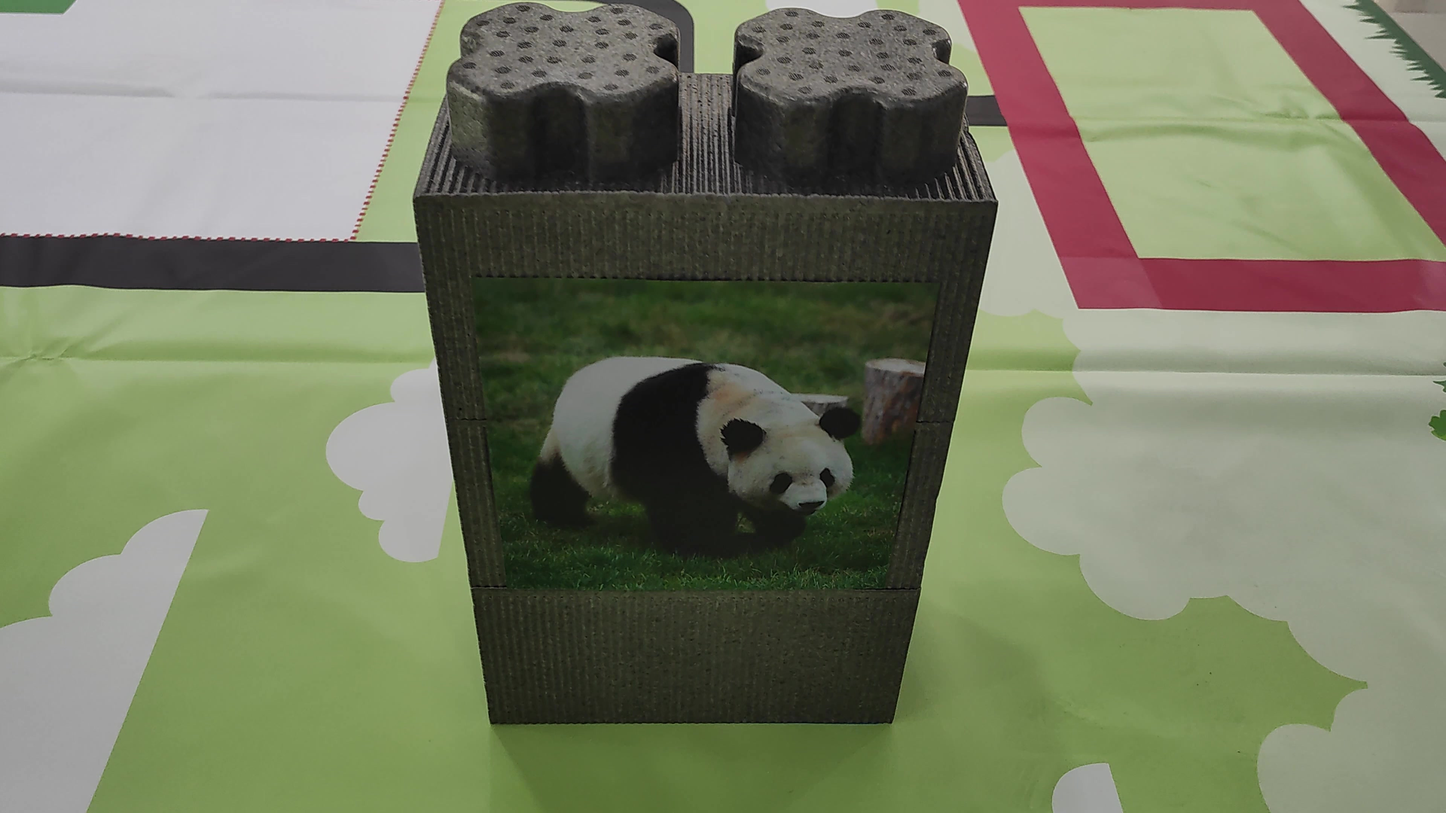panda: (486, 302, 861, 587)
